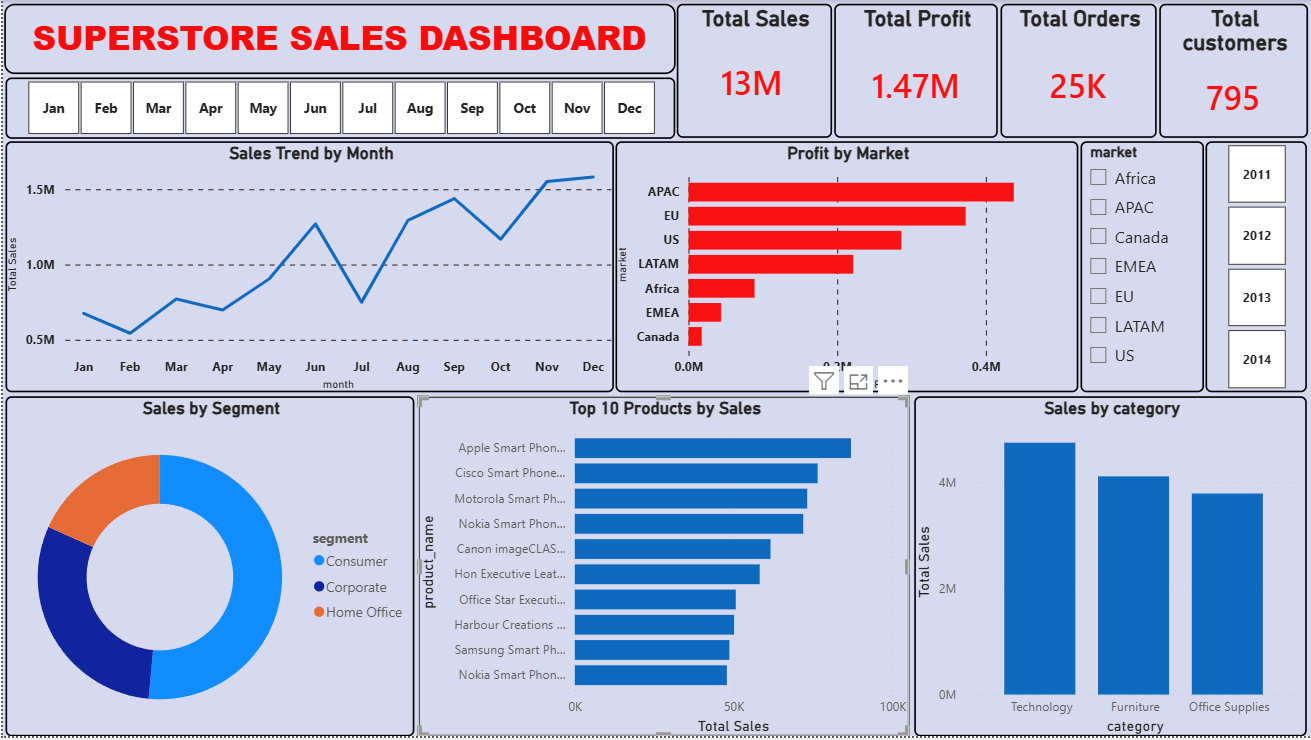

This screenshot's page, from the dashboard's own definition file:
{"tool":"powerbi","page":{"name":"Page 1","canvas":[1280,720],"ordinal":0},"visuals":[{"type":"textbox","box":[1.2,3.7,656.7,68.5],"z":0},{"type":"slicer","fields":{"Values":["Date Table.year"]},"box":[1176.4,138.2,99,245.8],"z":1000},{"type":"slicer","fields":{"Values":["Date Table.month"]},"box":[2.4,75.8,655.4,59.9],"z":2000},{"type":"slicer","fields":{"Values":["SuperStoreOrders.market"]},"box":[1054.1,138.2,121.1,245.8],"z":3000},{"type":"clusteredBarChart","title":"Profit by Market","fields":{"Category":["SuperStoreOrders.market"],"Y":["SuperStoreOrders.Total Profit"]},"box":[599.2,138.2,452.4,245.8],"z":4000},{"type":"donutChart","title":"Sales by Segment","fields":{"Category":["SuperStoreOrders.segment"],"Y":["SuperStoreOrders.Total Sales"]},"box":[2.4,387.6,399.9,332.6],"z":6000},{"type":"lineChart","title":"Sales Trend by Month ","fields":{"Category":["Date Table.month"],"Y":["SuperStoreOrders.Total Sales"]},"box":[2.4,138.2,595.5,245.8],"z":6500},{"type":"clusteredBarChart","title":"Top 10 Products by Sales","fields":{"Category":["SuperStoreOrders.product_name"],"Y":["SuperStoreOrders.Total Sales"]},"box":[406,387.4,480.6,332.6],"z":7000},{"type":"cardVisual","title":"Total Sales","fields":{"Data":["SuperStoreOrders.Total Sales"]},"box":[659.1,3.7,151.6,130.8],"z":8000},{"type":"cardVisual","title":"Total Profit","fields":{"Data":["SuperStoreOrders.Total Profit"]},"box":[813.2,3.7,160.2,130.8],"z":9000},{"type":"cardVisual","title":"Total Orders","fields":{"Data":["SuperStoreOrders.Total Orders"]},"box":[975.8,3.7,152.9,130.8],"z":10000},{"type":"cardVisual","title":"Total customers","fields":{"Data":["SuperStoreOrders.Total Customers"]},"box":[1131.1,3.7,145.5,130.8],"z":11000},{"type":"clusteredColumnChart","title":"Sales by category","fields":{"Category":["SuperStoreOrders.category"],"Y":["SuperStoreOrders.Total Sales"]},"box":[891.4,387.4,384,332.6],"z":12000}]}

Visuals, with their boxes in screenshot pixels (x1, y1, x2, y2), scaled from the page's 1280x720 canvas onto the 1311x740 screenshot:
textbox: left=1, top=4, right=674, bottom=74
slicer - Date Table.year: left=1205, top=142, right=1306, bottom=395
slicer - Date Table.month: left=2, top=78, right=674, bottom=139
slicer - SuperStoreOrders.market: left=1080, top=142, right=1204, bottom=395
"Profit by Market" clusteredBarChart: left=614, top=142, right=1077, bottom=395
"Sales by Segment" donutChart: left=2, top=398, right=412, bottom=739
"Sales Trend by Month " lineChart: left=2, top=142, right=612, bottom=395
"Top 10 Products by Sales" clusteredBarChart: left=416, top=398, right=908, bottom=739
"Total Sales" cardVisual: left=675, top=4, right=830, bottom=138
"Total Profit" cardVisual: left=833, top=4, right=997, bottom=138
"Total Orders" cardVisual: left=999, top=4, right=1156, bottom=138
"Total customers" cardVisual: left=1158, top=4, right=1308, bottom=138
"Sales by category" clusteredColumnChart: left=913, top=398, right=1306, bottom=739
